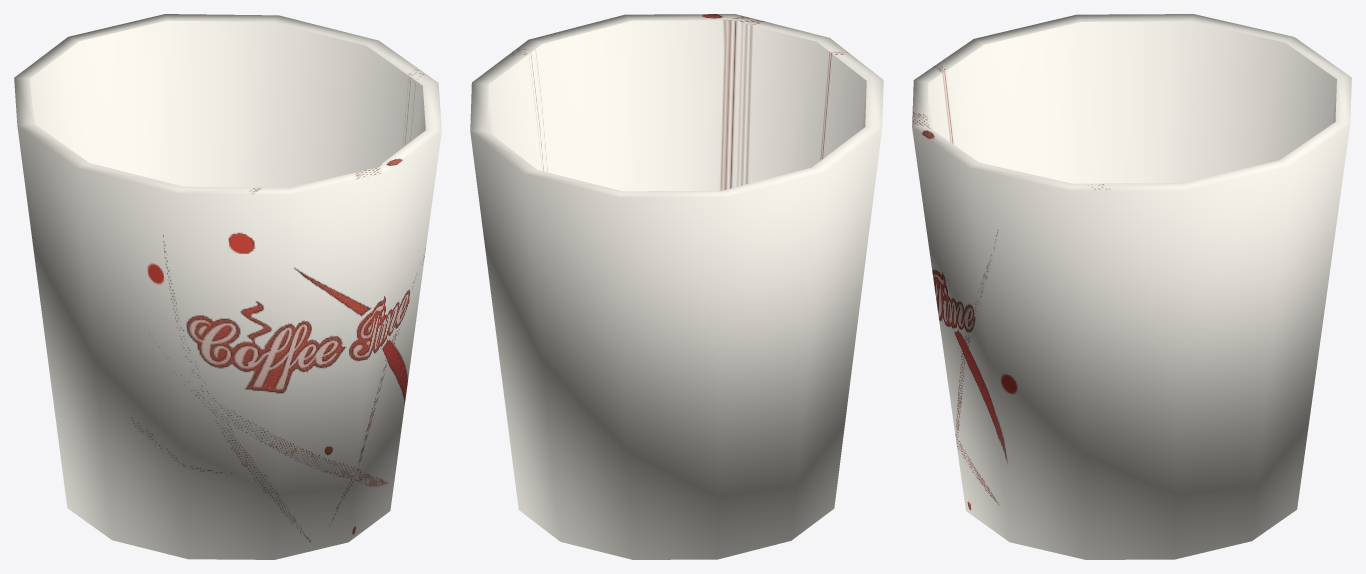
The model's file is Paper_Cup.fbx.
3 views of the same model, side by side, from view 1: azimuth 30°, elevation 25°; view 2: azimuth 150°, elevation 25°; view 3: azimuth 270°, elevation 25° (orthographic).
Parts seen in each view (by area): view 1: Cylinder; view 2: Cylinder; view 3: Cylinder.
Boxes of the visible parts, <box> form: Cylinder: <box>14,14,441,559</box>; Cylinder: <box>470,14,883,559</box>; Cylinder: <box>912,14,1351,559</box>.
Bounding box in the file's own units: 58.41 × 60 × 61.36.
1 material, 1 textured.
